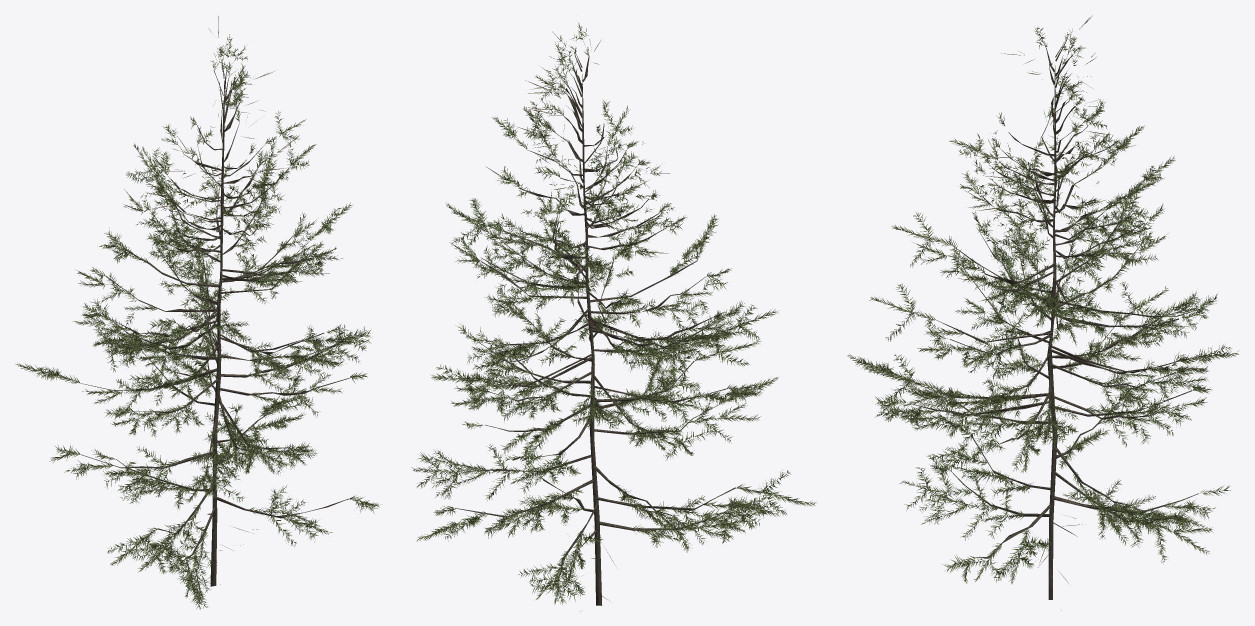
File: young_fir.glb
The picture shows the model from 3 angles, left to right: view 1: azimuth 30°, elevation 25°; view 2: azimuth 150°, elevation 25°; view 3: azimuth 270°, elevation 25°; orthographic projection. The views are drawn at different scales.
Parts seen in each view (by area): view 1: YoungFir; view 2: YoungFir; view 3: YoungFir.
Boxes of the visible parts, x1,y1,x2,y2 form: YoungFir: [15, 16, 380, 609]; YoungFir: [411, 23, 816, 605]; YoungFir: [847, 15, 1238, 599].
Size of the model in its own units: 1.33 by 2.37 by 1.4.
3 materials, 3 textured.
